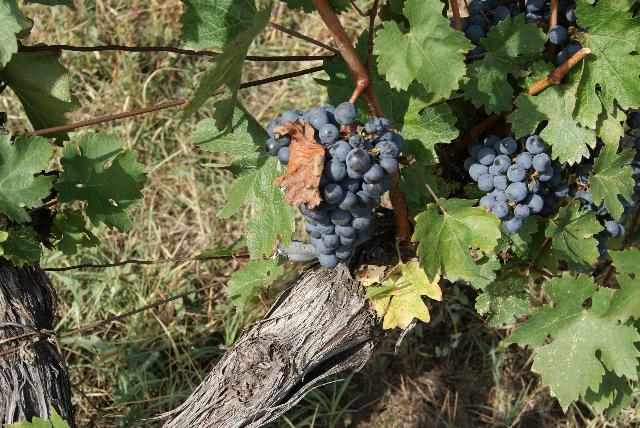grapes: (265, 101, 405, 269)
